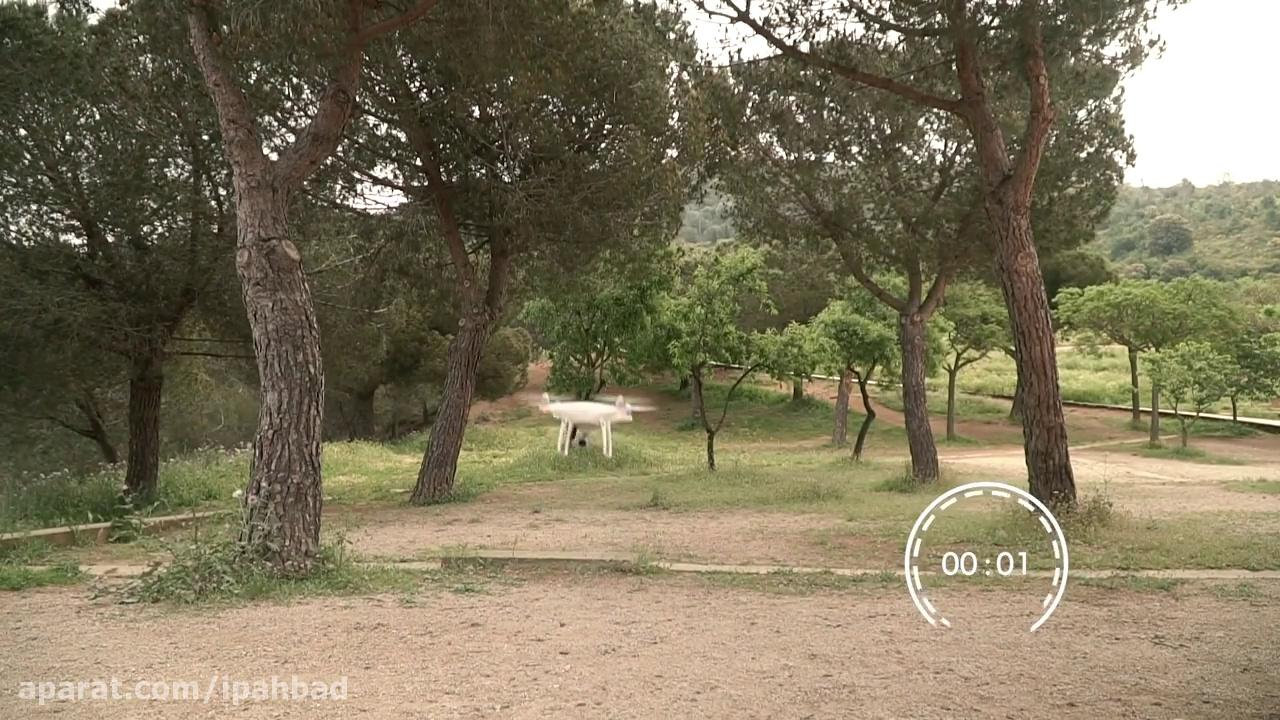drone: (522, 387, 657, 462)
